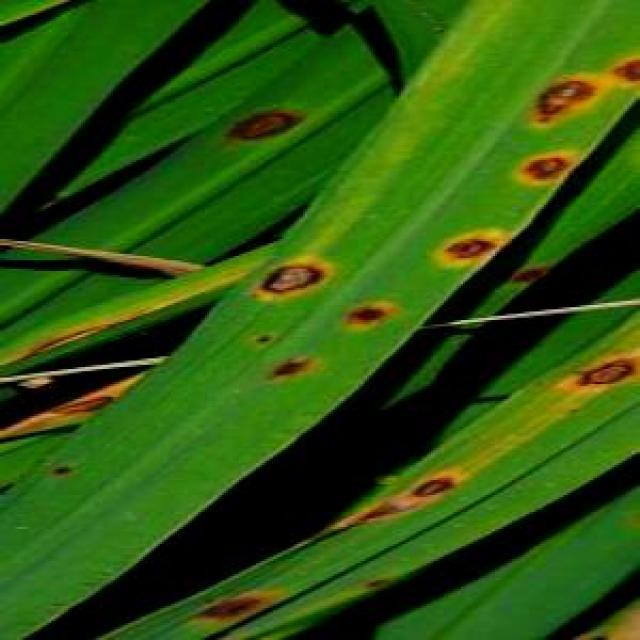Rice_Brownspot: (516, 49, 602, 143), (503, 126, 589, 200), (207, 94, 316, 152), (544, 337, 638, 403), (421, 213, 518, 276), (241, 250, 341, 310), (177, 578, 286, 629), (324, 288, 410, 339), (599, 26, 638, 109), (397, 465, 465, 508), (260, 344, 318, 391), (40, 457, 81, 482), (356, 570, 394, 594), (244, 322, 278, 348)
